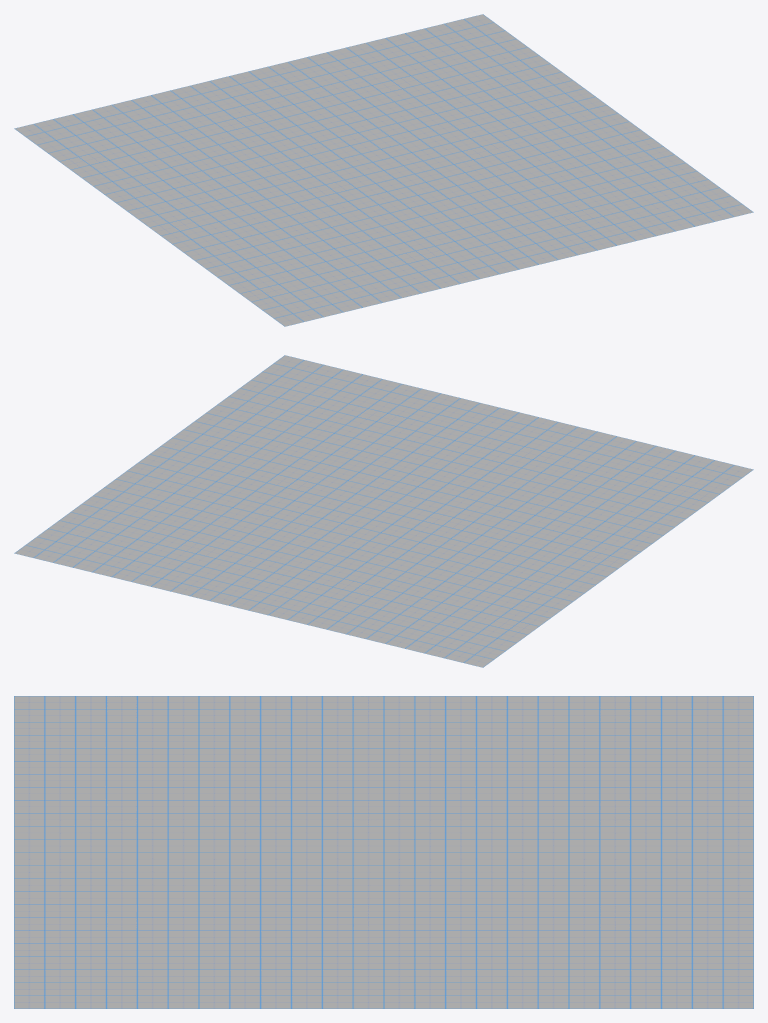
File: gridFloor.glb
The picture shows the model from 3 angles, top to bottom: view 1: azimuth 30°, elevation 25°; view 2: azimuth 150°, elevation 25°; view 3: azimuth 270°, elevation 25°; orthographic projection. The views are drawn at different scales.
Visible parts, largest first — view 1: Floor; view 2: Floor; view 3: Floor.
Part boxes in pixels (box(x1,y1,x2,y2)): Floor: box(14, 14, 753, 326); Floor: box(14, 355, 753, 667); Floor: box(14, 696, 753, 1008).
Size of the model in its own units: 48 by 0 by 48.
Materials: 1 (1 with a texture image).
